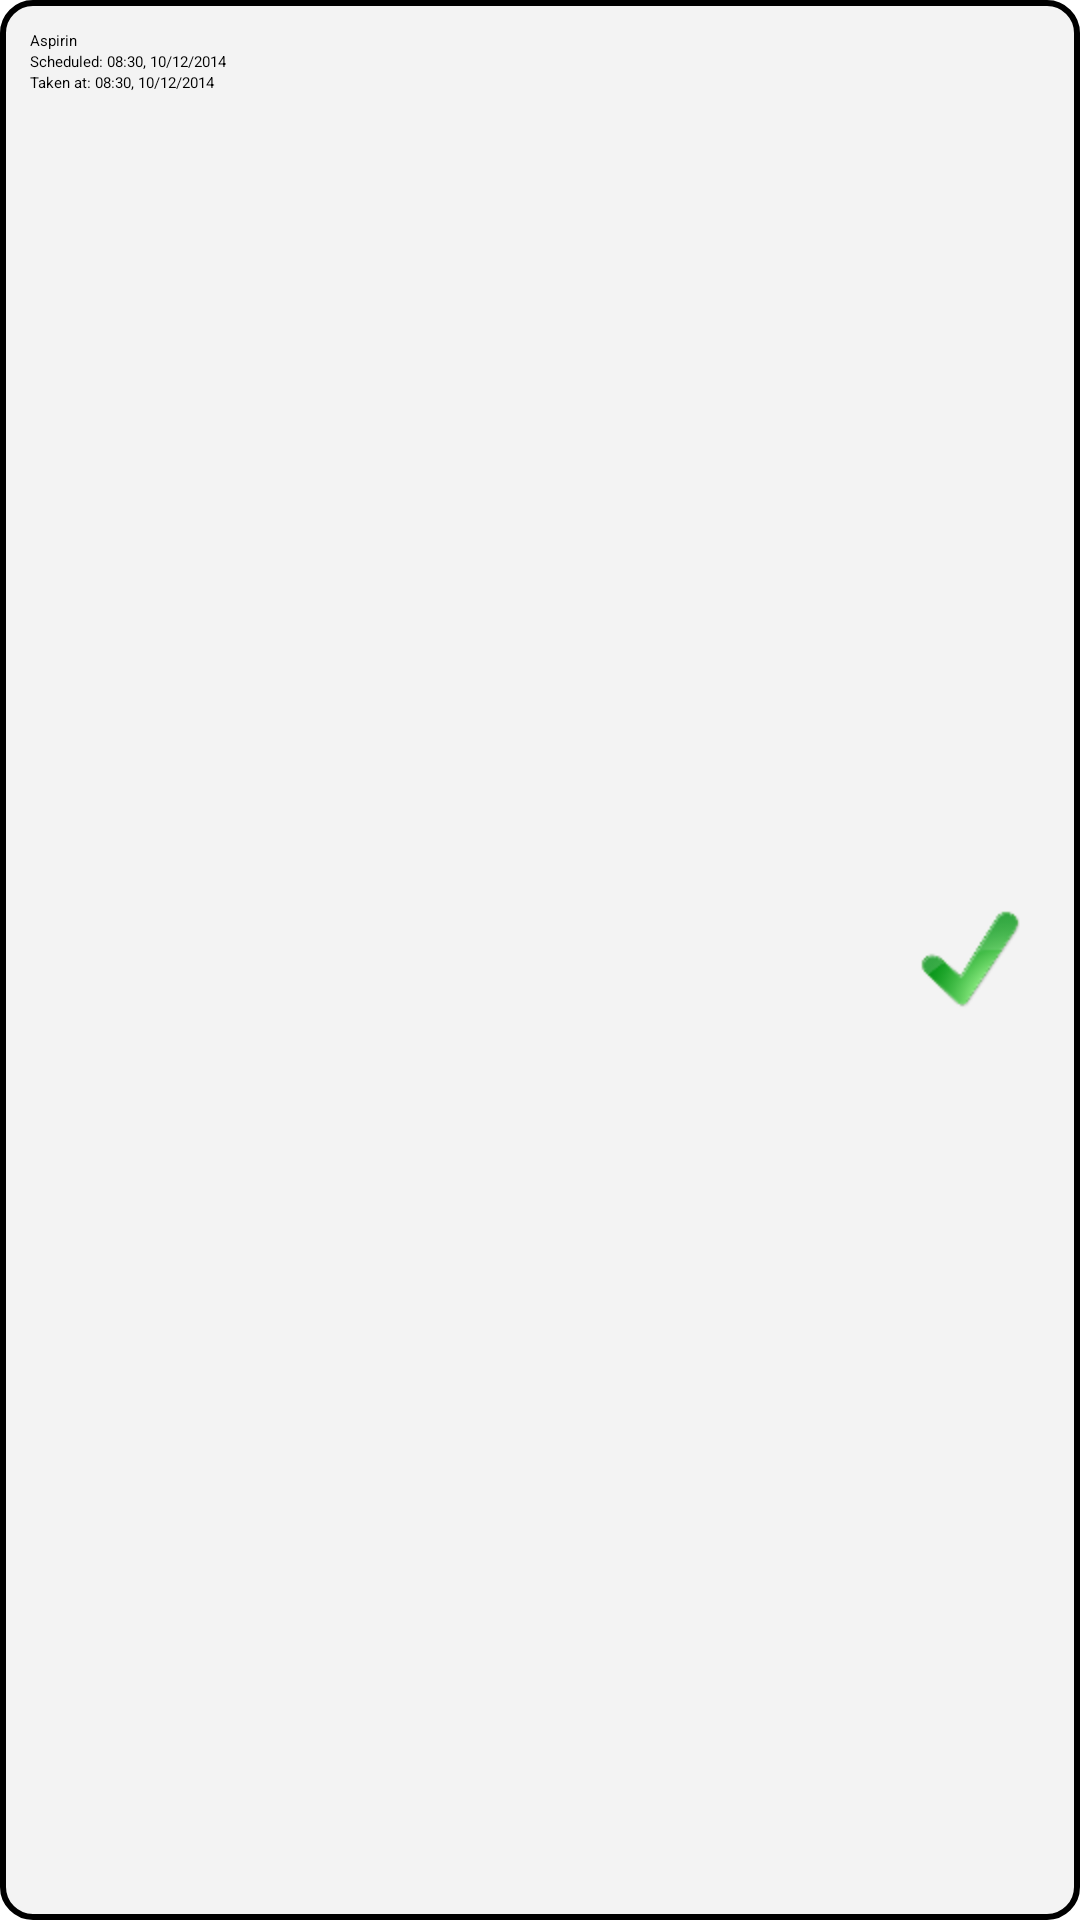

Locate icon controls on the screen. Image size 1080*1920, boxes as (left=x1, top=y1, right=x2, bottom=y2).
correct: (left=921, top=911, right=1019, bottom=1006)
